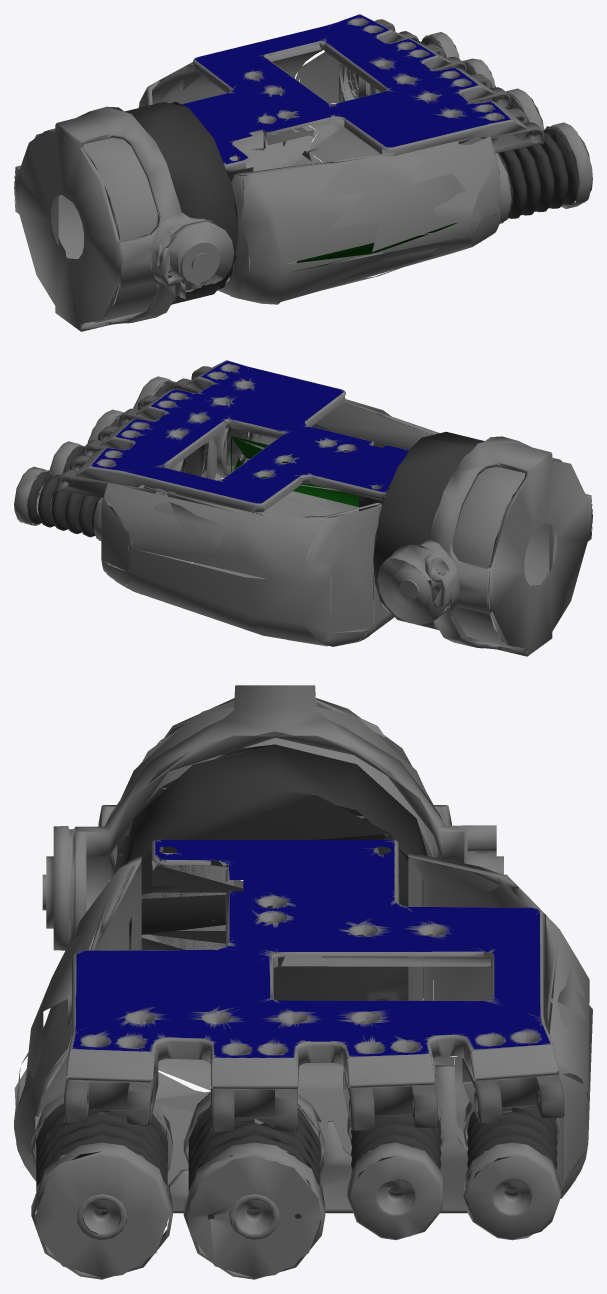
The model's file is armr_wri2_joint.obj.
3 renders of one model, top to bottom at view 1: azimuth 30°, elevation 25°; view 2: azimuth 150°, elevation 25°; view 3: azimuth 270°, elevation 25°, orthographic. The views are drawn at different scales.
Size of the model in its own units: 0.1182 by 0.049 by 0.0797.
Materials: 1 (1 with a texture image).
